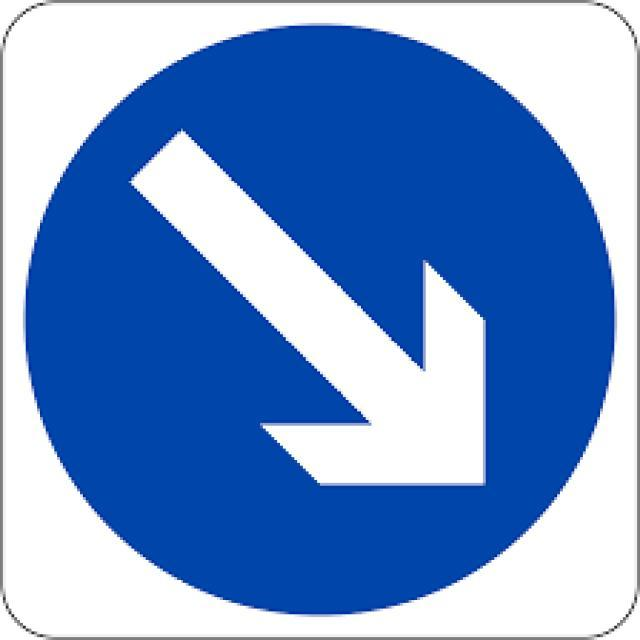compulsary keep right: (14, 14, 621, 620)
